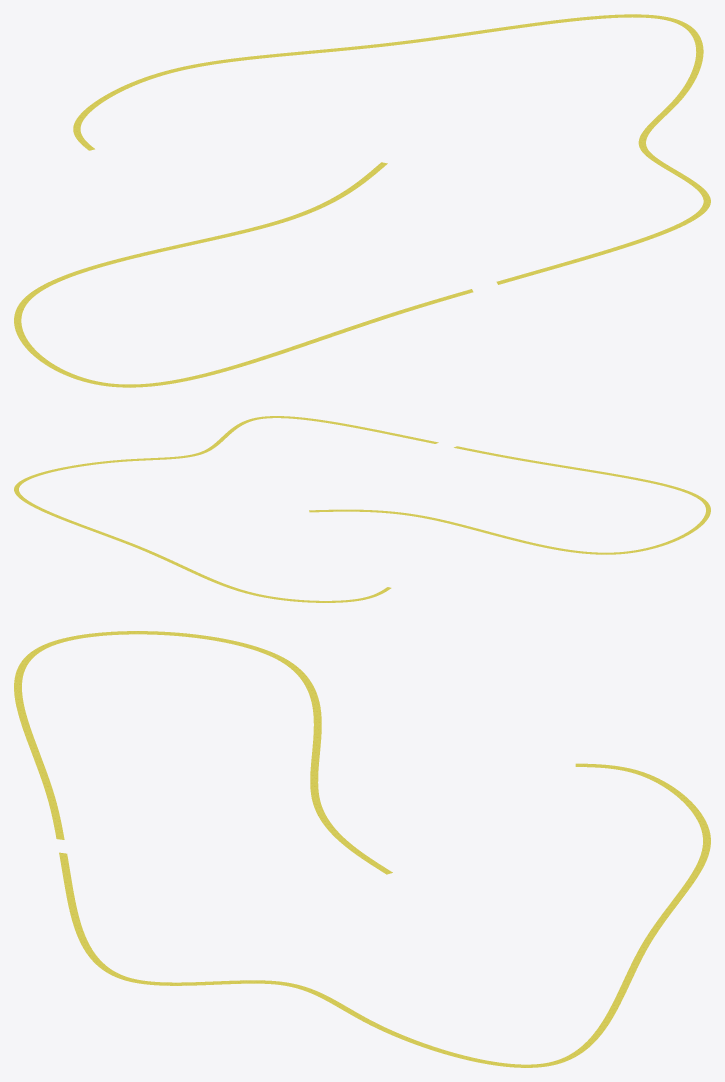
The model's file is tape.fbx.
3 views of the same model, one above another, from view 1: azimuth 30°, elevation 25°; view 2: azimuth 150°, elevation 25°; view 3: azimuth 270°, elevation 25° (orthographic). The views are drawn at different scales.
Visible parts, largest first — view 1: mesh1.001, mesh1; view 2: mesh1.001, mesh1; view 3: mesh1.001, mesh1.
Boxes of the visible parts, box(x1,y1,x2,y2) form: mesh1.001: box(73, 14, 710, 284); mesh1: box(14, 162, 473, 387); mesh1.001: box(14, 416, 438, 602); mesh1: box(309, 446, 710, 554); mesh1.001: box(59, 763, 710, 1067); mesh1: box(14, 631, 392, 874).
Size of the model in its own units: 1227 by 3.6e-05 by 828.
Materials: 1 (1 with a texture image).
